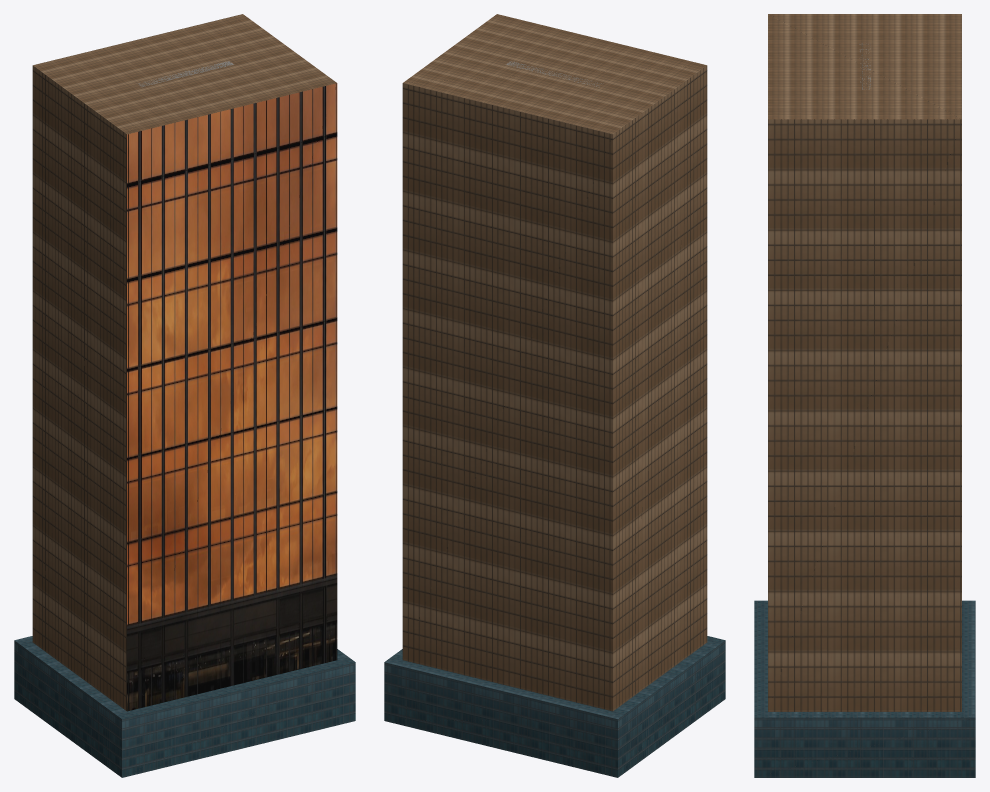
File: kestrel-hq_lod0.gltf
The picture shows the model from 3 angles, left to right: view 1: azimuth 30°, elevation 25°; view 2: azimuth 150°, elevation 25°; view 3: azimuth 270°, elevation 25°; orthographic projection. The views are drawn at different scales.
Visible parts, largest first — view 1: kestrel-hq_front, kestrel-hq_tier1, kestrel-hq_tier0; view 2: kestrel-hq_tier1, kestrel-hq_tier0; view 3: kestrel-hq_tier1, kestrel-hq_tier0.
Part boxes in pixels (bbox=[...]): kestrel-hq_front: bbox=[127, 83, 337, 711]; kestrel-hq_tier1: bbox=[32, 14, 336, 710]; kestrel-hq_tier0: bbox=[14, 636, 355, 777]; kestrel-hq_tier1: bbox=[402, 14, 707, 711]; kestrel-hq_tier0: bbox=[384, 636, 725, 777]; kestrel-hq_tier1: bbox=[768, 14, 961, 711]; kestrel-hq_tier0: bbox=[754, 600, 975, 777].
Size of the model in its own units: 50 by 130 by 40.
